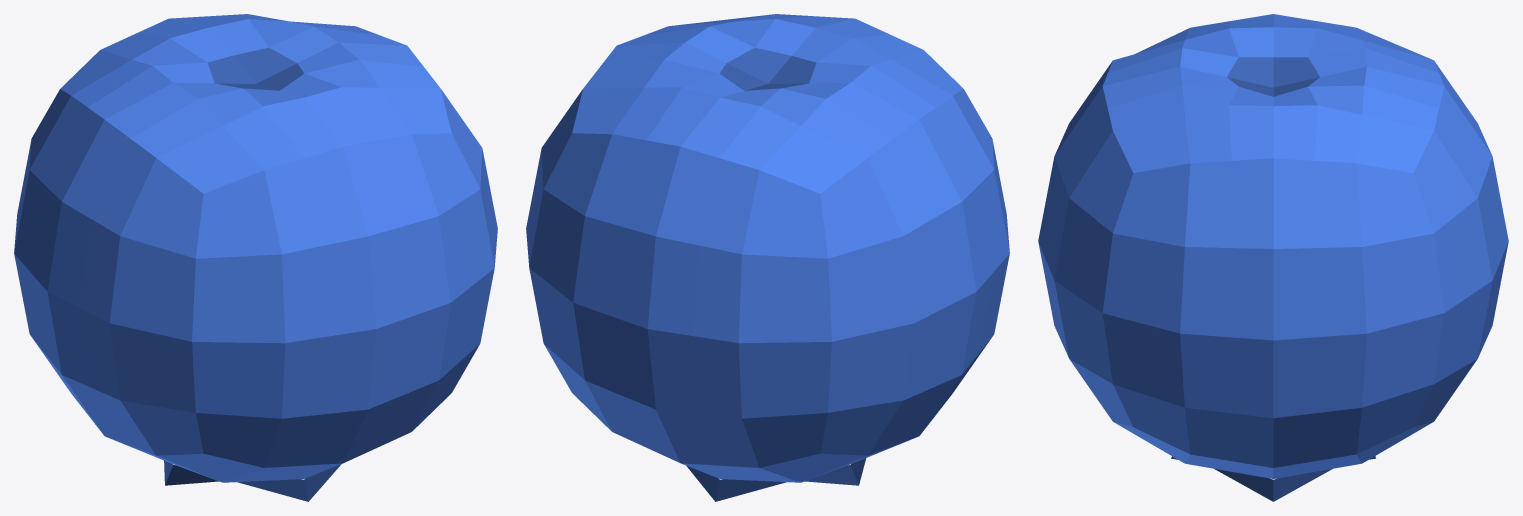
Rendered from blueberry.fbx.
The picture shows the model from 3 angles, left to right: view 1: azimuth 30°, elevation 25°; view 2: azimuth 150°, elevation 25°; view 3: azimuth 270°, elevation 25°; orthographic projection. The views are drawn at different scales.
Visible parts, largest first — view 1: Blueberry; view 2: Blueberry; view 3: Blueberry.
Boxes of the visible parts, bbox=[...] form: Blueberry: bbox=[14, 14, 497, 501]; Blueberry: bbox=[526, 14, 1009, 501]; Blueberry: bbox=[1038, 14, 1508, 501].
Size of the model in its own units: 168 by 154 by 168.
